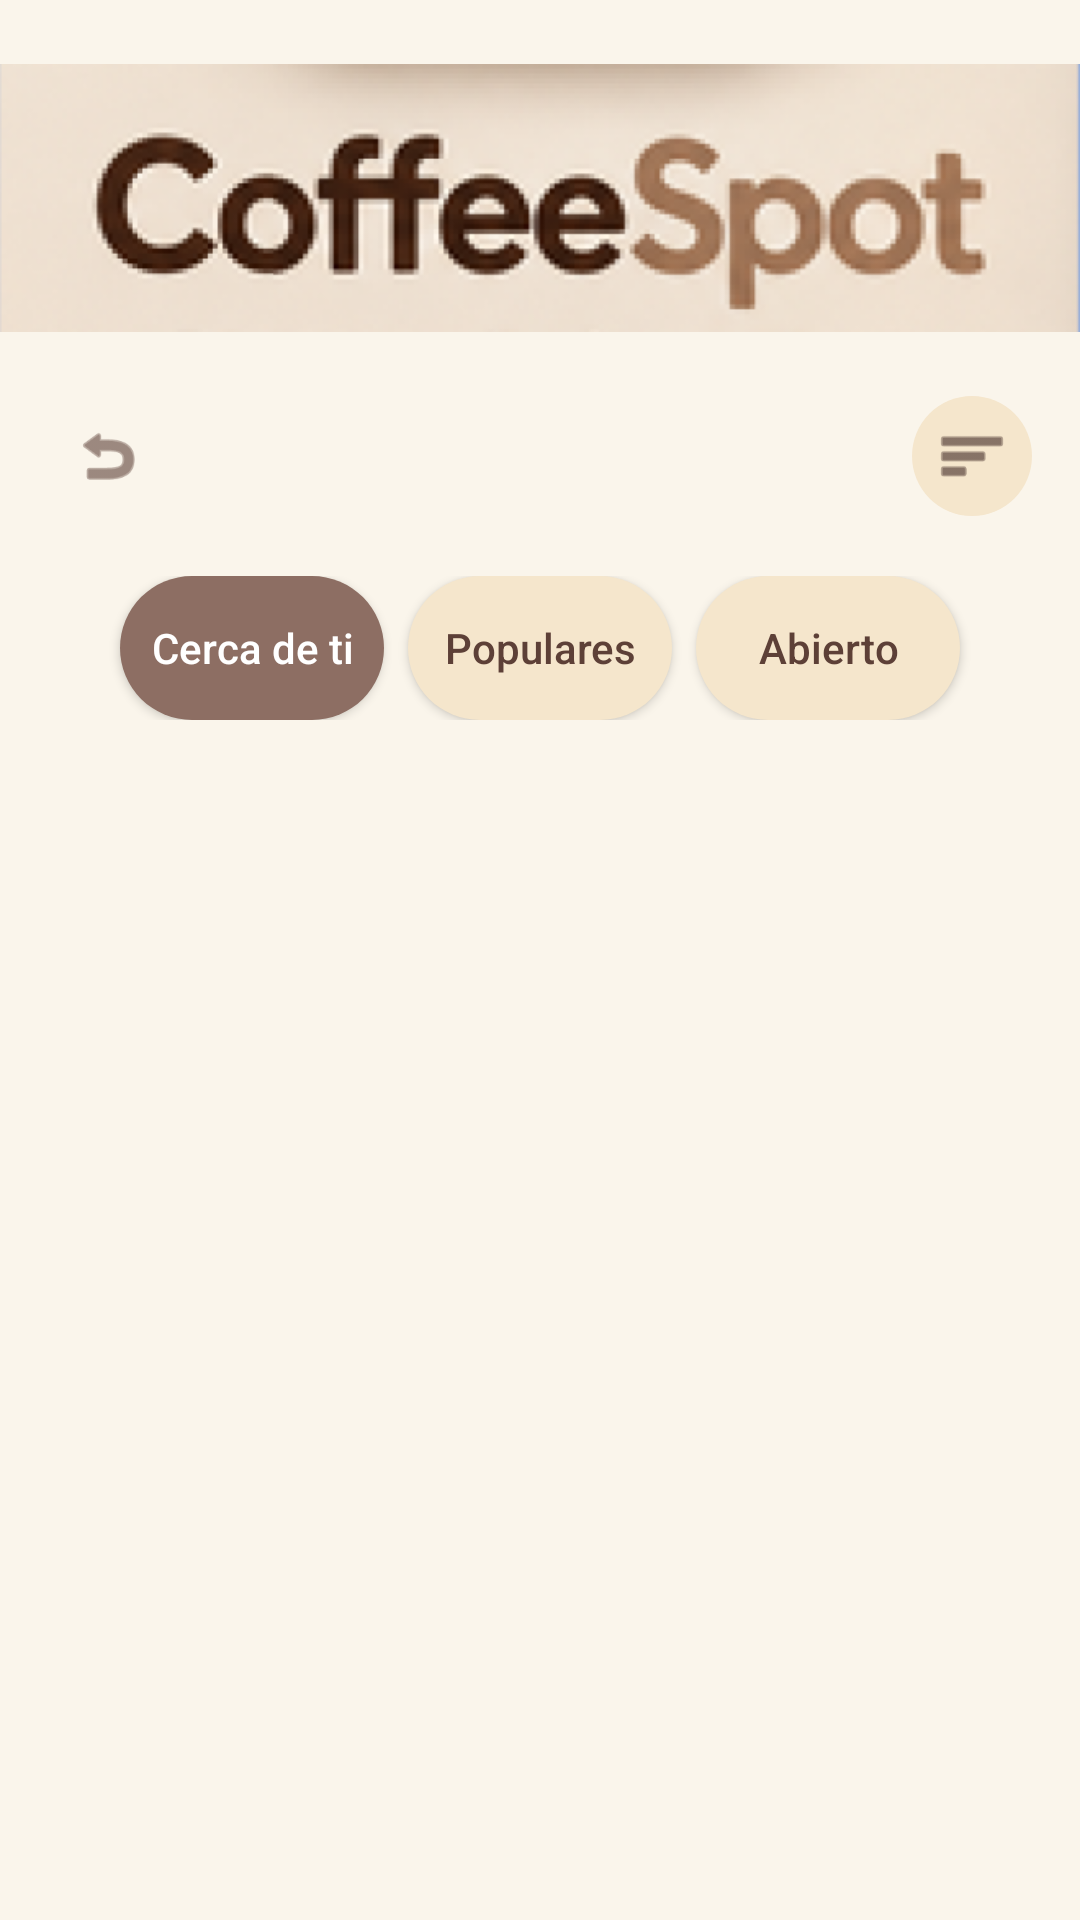

Icons on this 1080×1920 Android screen, each with its box as (x1, y1, x2, y2):
revert: (83, 433, 135, 480)
sort by size: (912, 396, 1032, 516)
